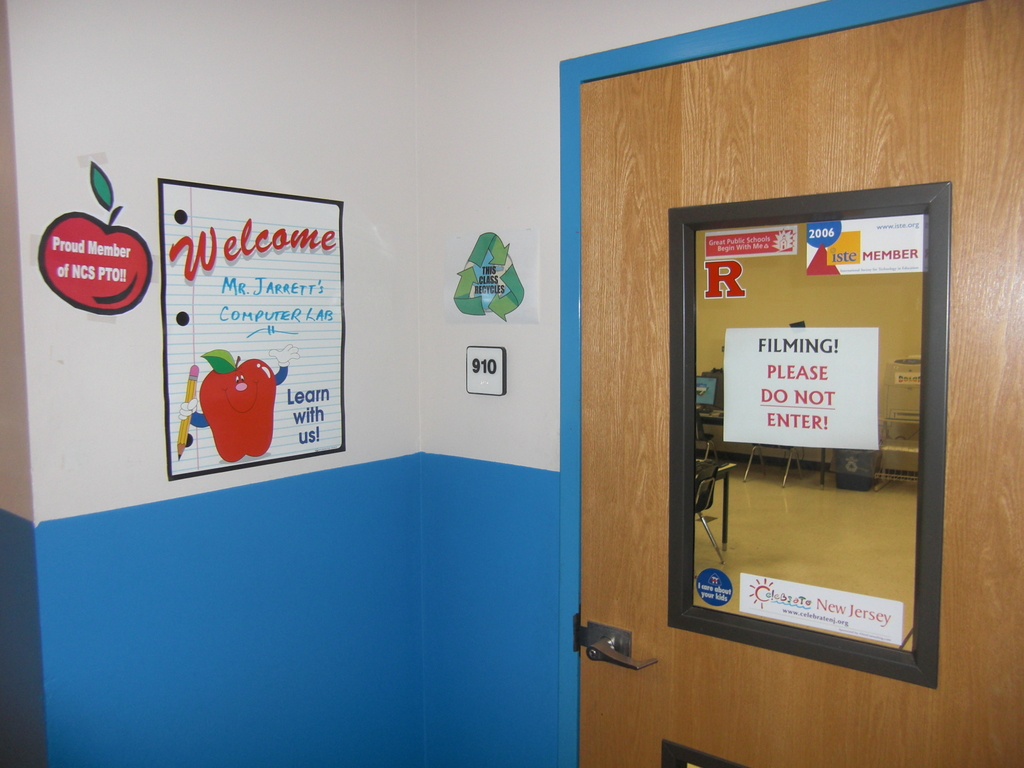Apple: (38, 158, 152, 312), (197, 350, 273, 465)
